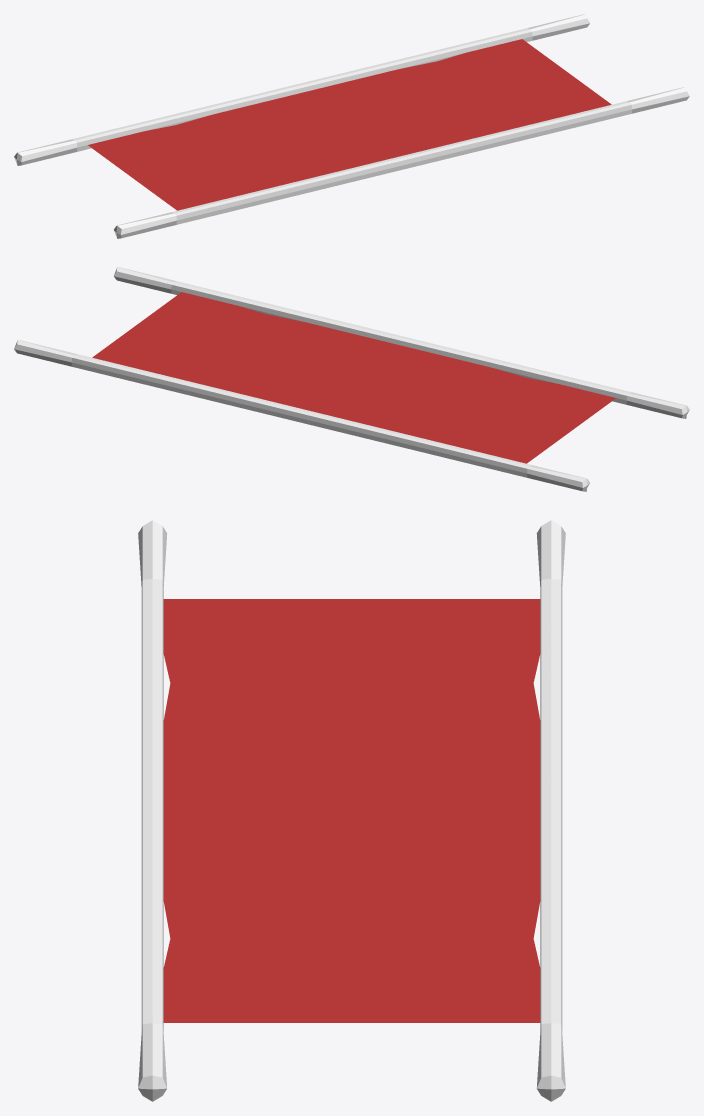
Rendered from Nurses RescueStretcher.fbx.
3 views of the same model, one above another, from view 1: azimuth 30°, elevation 25°; view 2: azimuth 150°, elevation 25°; view 3: azimuth 270°, elevation 25° (orthographic). The views are drawn at different scales.
Visible parts, largest first — view 1: Rescue Stretcher; view 2: Rescue Stretcher; view 3: Rescue Stretcher.
Part boxes in pixels (x1=…): Rescue Stretcher: x1=14, y1=14, x2=689, y2=238; Rescue Stretcher: x1=14, y1=267, x2=689, y2=491; Rescue Stretcher: x1=138, y1=520, x2=565, y2=1101.
Bounding box in the file's own units: 3.28 × 0.0725 × 1.07.
